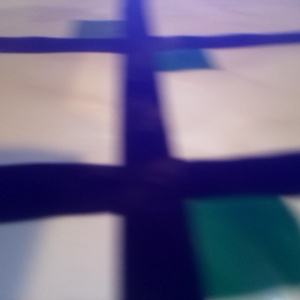bottom_right: (125, 160, 299, 296), (128, 36, 210, 69)
top_left: (78, 20, 145, 51)
